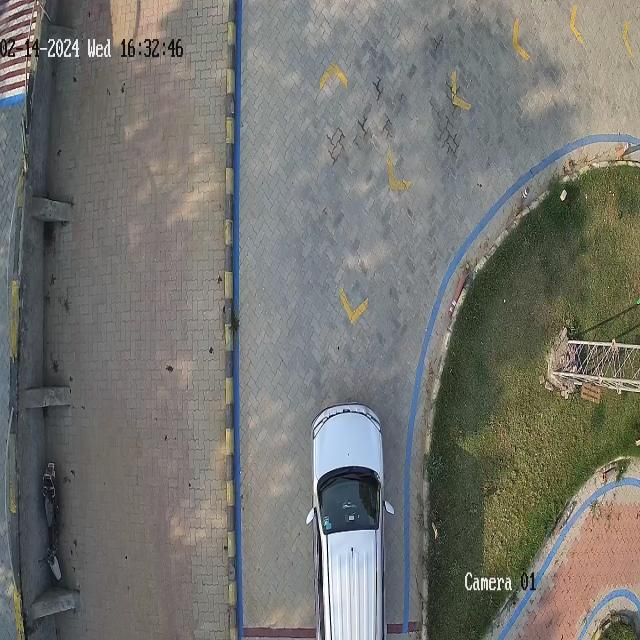car: (308, 402, 394, 640)
